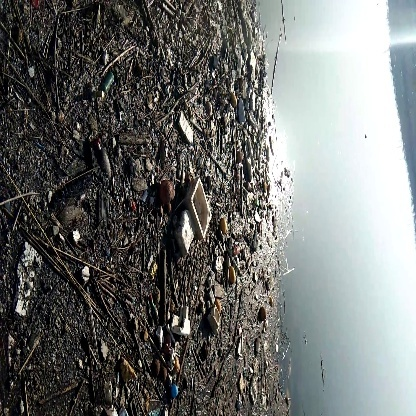plastic-garbage: (177, 173, 220, 254)
